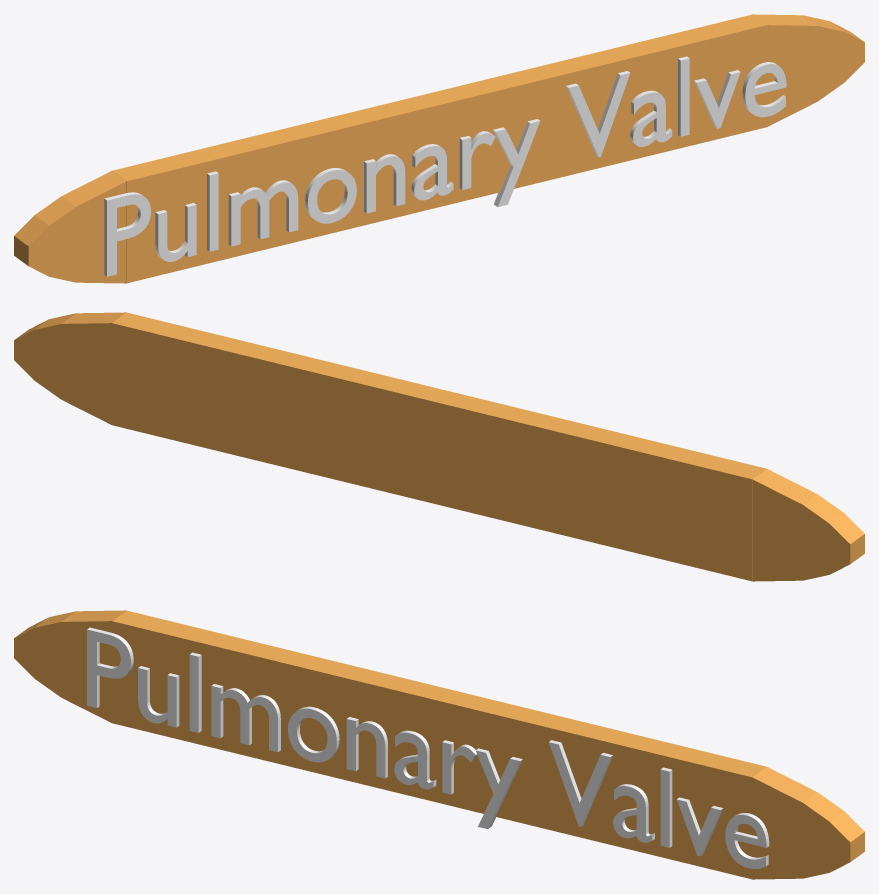
File: txtPulmonaryValve.fbx
3 renders of one model, top to bottom at view 1: azimuth 30°, elevation 25°; view 2: azimuth 150°, elevation 25°; view 3: azimuth 330°, elevation 25°, orthographic.
Parts seen in each view (by area): view 1: TagContainer.036, Text.037; view 2: TagContainer.036; view 3: TagContainer.036, Text.037.
Part boxes in pixels (x1,y1,x2,y2): TagContainer.036: [14, 14, 864, 283]; Text.037: [104, 56, 786, 276]; TagContainer.036: [14, 312, 864, 581]; TagContainer.036: [14, 610, 864, 879]; Text.037: [87, 627, 769, 868].
Size of the model in its own units: 354 by 46.03 by 12.69.
